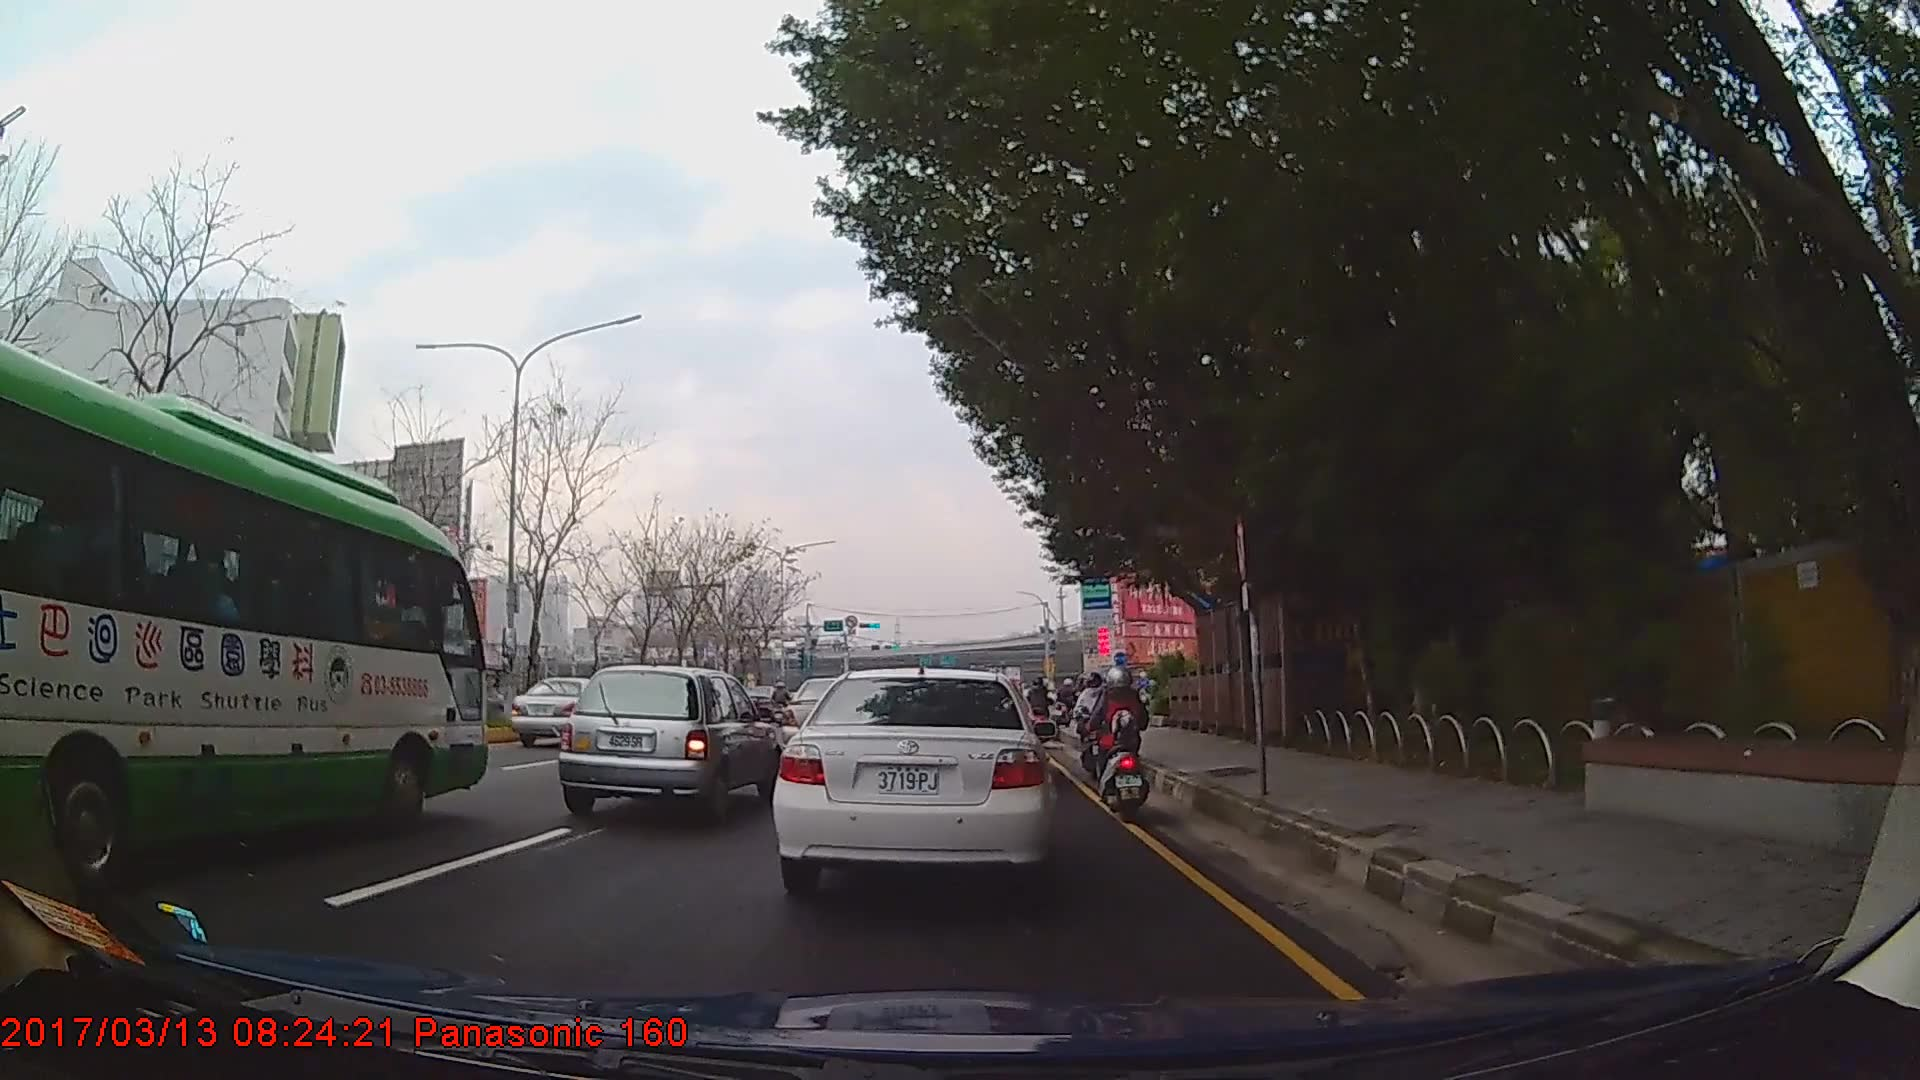rider: (1093, 661, 1154, 818), (1072, 672, 1117, 785), (1028, 676, 1054, 734)
vehicle: (0, 336, 487, 909), (771, 666, 1055, 895), (555, 664, 780, 823), (509, 675, 610, 747), (738, 682, 789, 718)
